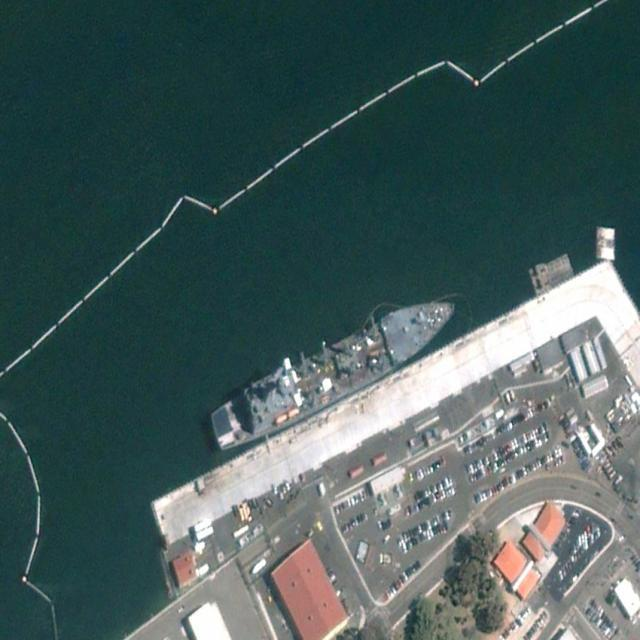Commander: (206, 279, 464, 459)
